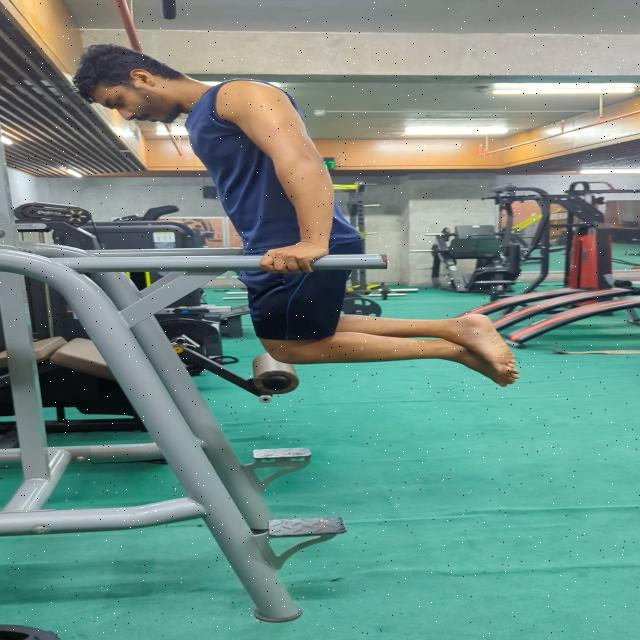Normal_Dips: (59, 40, 566, 393)
